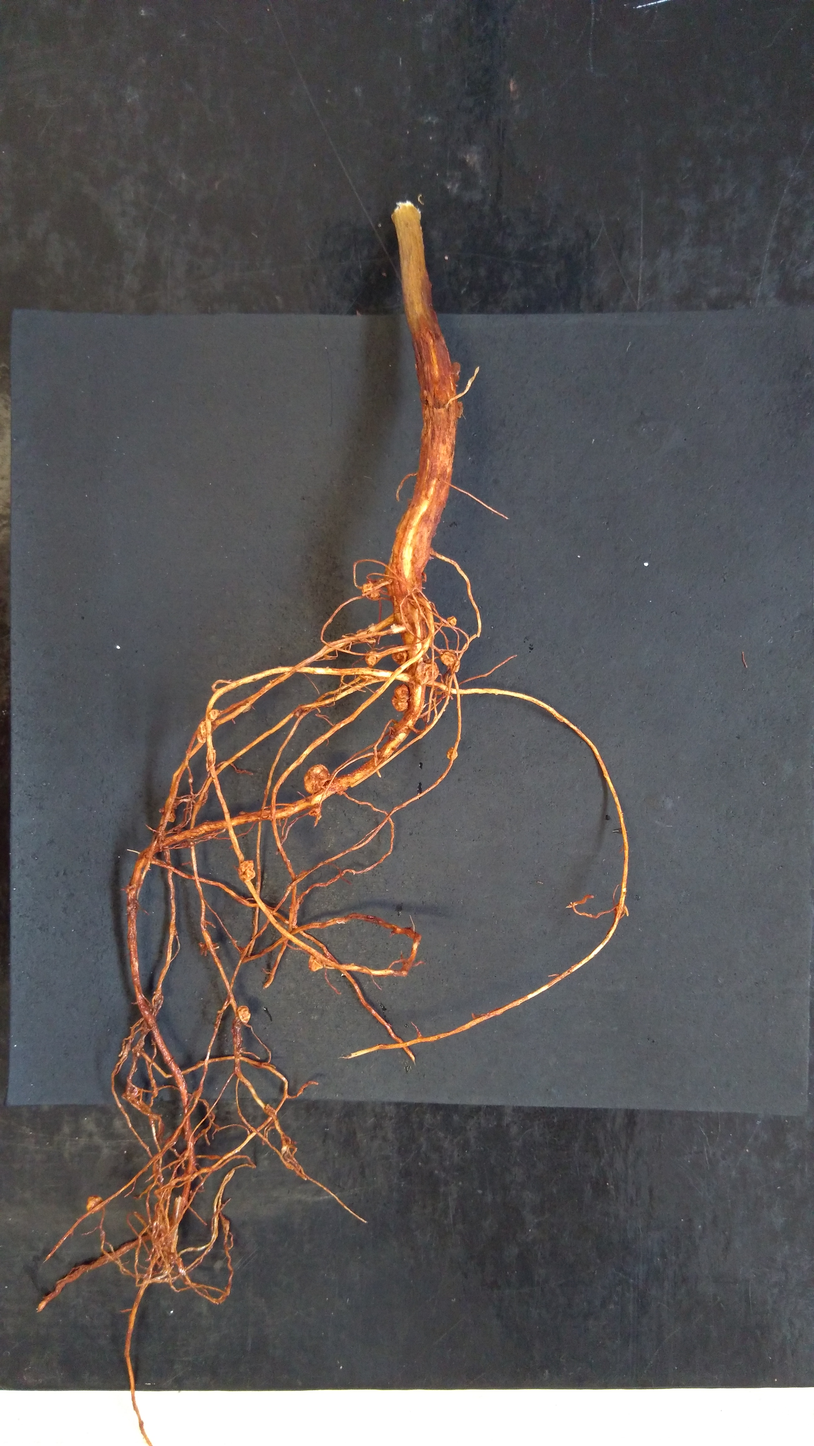nodule: (302, 763, 332, 796), (415, 659, 439, 686), (236, 858, 258, 884), (84, 1194, 105, 1212), (361, 582, 381, 600), (389, 694, 409, 712), (307, 954, 325, 974), (393, 682, 410, 703), (390, 649, 409, 667), (236, 1003, 251, 1024), (439, 650, 457, 667), (196, 720, 207, 743), (307, 802, 321, 819), (363, 653, 378, 667), (450, 660, 463, 675), (446, 614, 458, 627), (446, 747, 458, 760), (167, 806, 176, 823), (208, 708, 219, 721)
